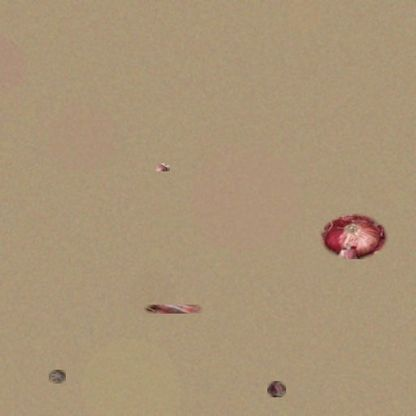healthy: (319, 214, 388, 259)
rotten: (144, 305, 203, 314), (267, 381, 286, 397), (49, 370, 66, 383)
sprouted: (156, 163, 170, 171)
